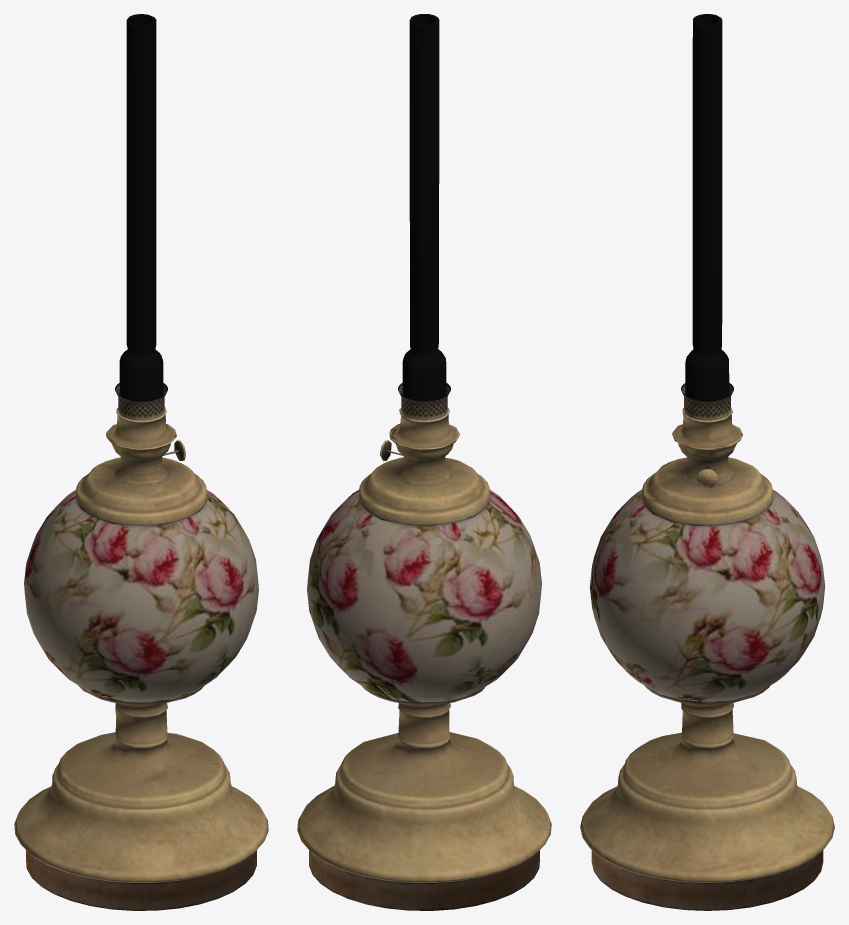
Rendered from vintage_oil_lamp.glb.
The picture shows the model from 3 angles, left to right: view 1: azimuth 30°, elevation 25°; view 2: azimuth 150°, elevation 25°; view 3: azimuth 270°, elevation 25°; orthographic projection.
Visible parts, largest first — view 1: vintage_oil_lamp, vintage_oil_lamp_glass; view 2: vintage_oil_lamp, vintage_oil_lamp_glass; view 3: vintage_oil_lamp, vintage_oil_lamp_glass.
Boxes of the visible parts, x1,y1,x2,y2 form: vintage_oil_lamp: (14,407,268,910); vintage_oil_lamp_glass: (115,14,167,420); vintage_oil_lamp: (297,407,551,910); vintage_oil_lamp_glass: (398,14,450,420); vintage_oil_lamp: (580,407,834,910); vintage_oil_lamp_glass: (681,14,733,420).
Size of the model in its own units: 0.22 by 0.8016 by 0.22.
3 materials, 3 textured.
